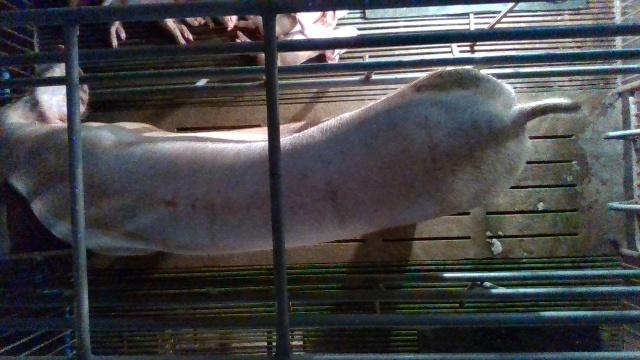piglet: (236, 14, 360, 66), (237, 10, 348, 38)
sow-stand-feed: (0, 43, 583, 256)
